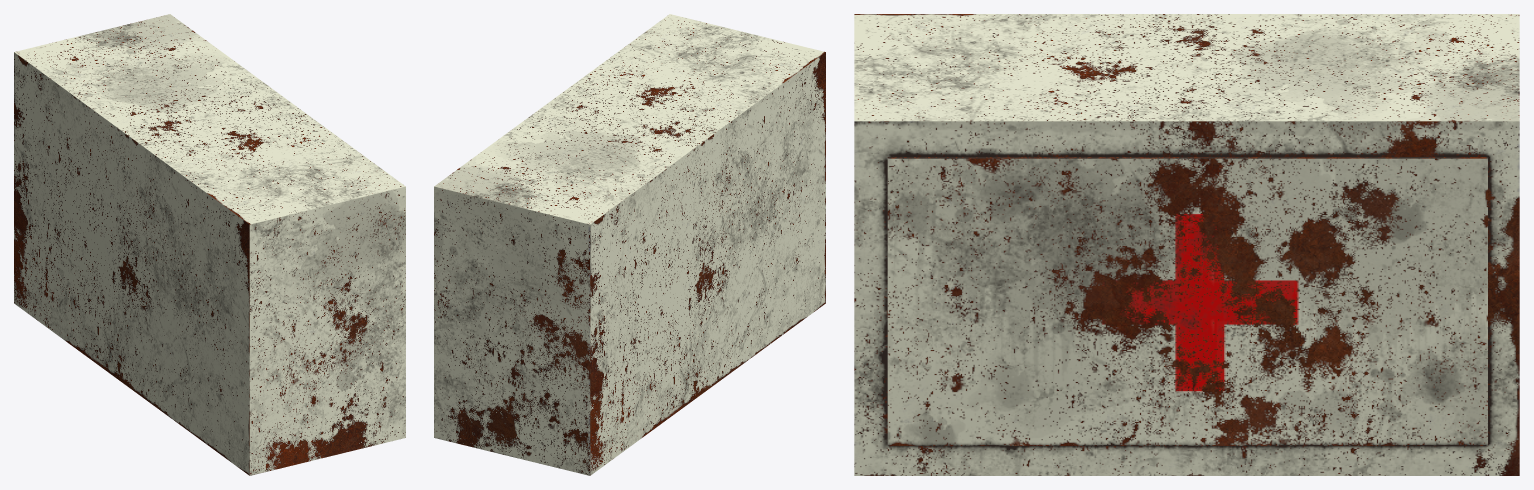
Rendered from Medkit 1.fbx.
3 renders of one model, left to right at view 1: azimuth 30°, elevation 25°; view 2: azimuth 150°, elevation 25°; view 3: azimuth 270°, elevation 25°, orthographic. The views are drawn at different scales.
Visible parts, largest first — view 1: Cube; view 2: Cube; view 3: Cube.
Boxes of the visible parts, bbox=[...] form: Cube: bbox=[14, 14, 405, 475]; Cube: bbox=[434, 14, 825, 475]; Cube: bbox=[854, 14, 1519, 475].
Size of the model in its own units: 132 by 200 by 340.
